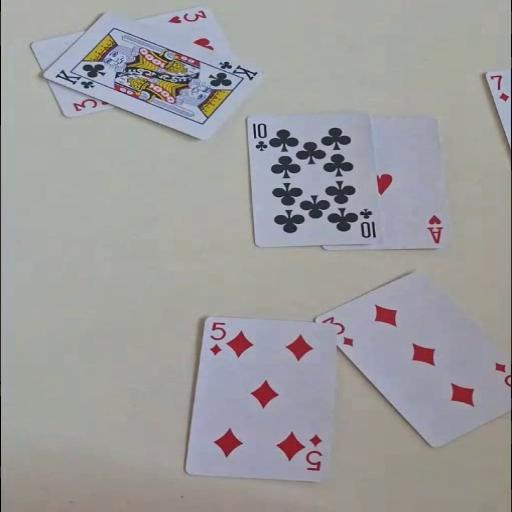10: (250, 120, 269, 152), (358, 206, 376, 239)
3: (319, 314, 356, 348), (165, 8, 208, 24), (69, 97, 102, 112)
5: (302, 432, 324, 472), (206, 320, 227, 356)
7: (488, 73, 510, 102)
A: (425, 213, 444, 244)
J: (51, 66, 96, 90)
K: (214, 58, 259, 82), (52, 67, 96, 90)
